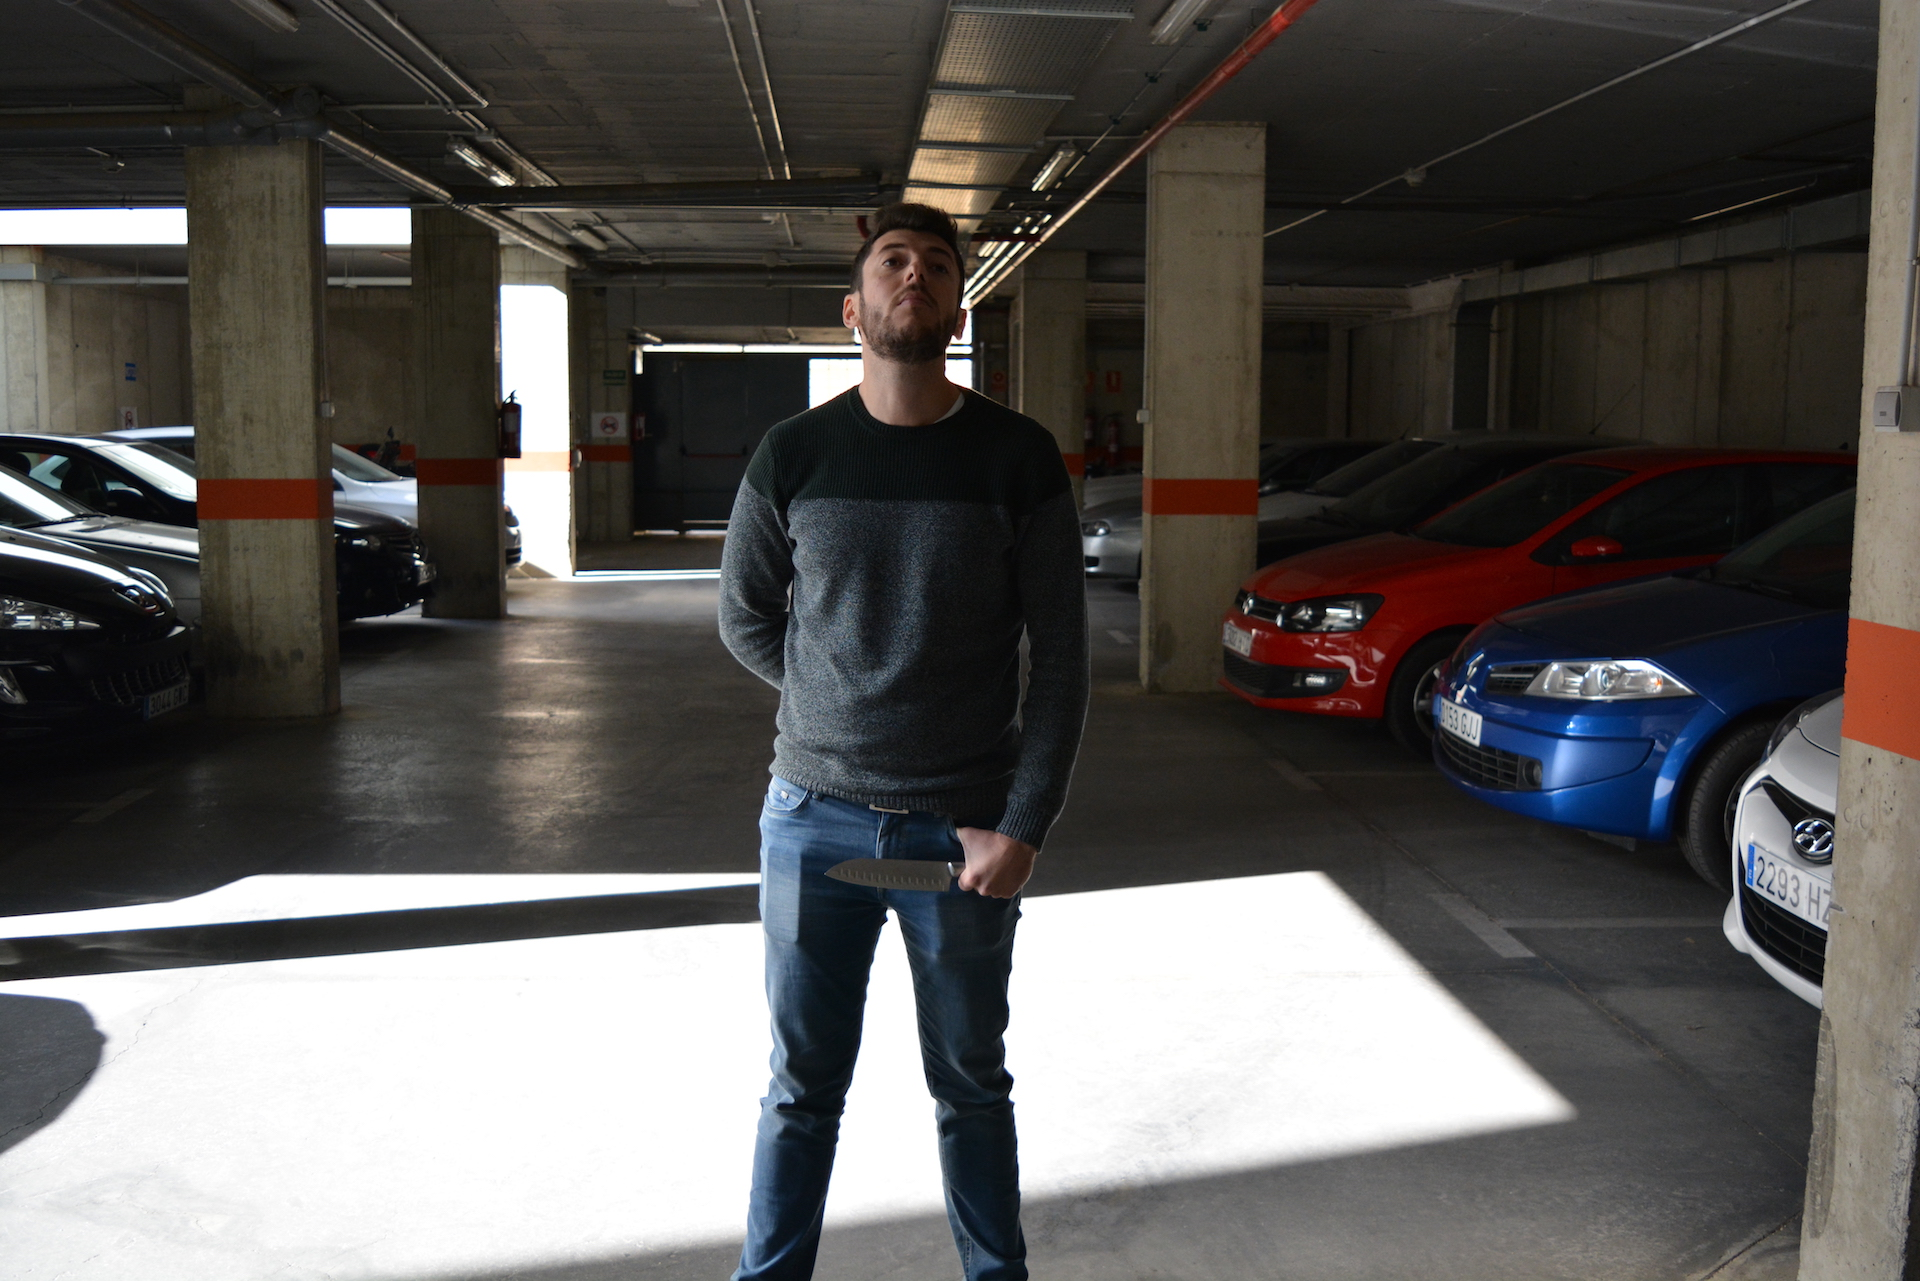knife: (816, 852, 976, 898)
